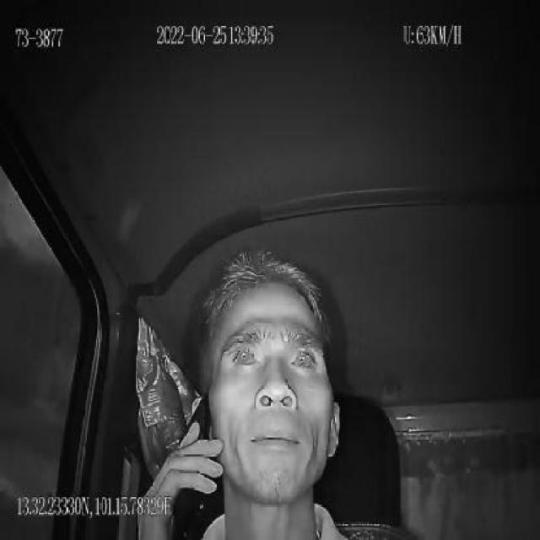phone: (172, 393, 211, 540)
